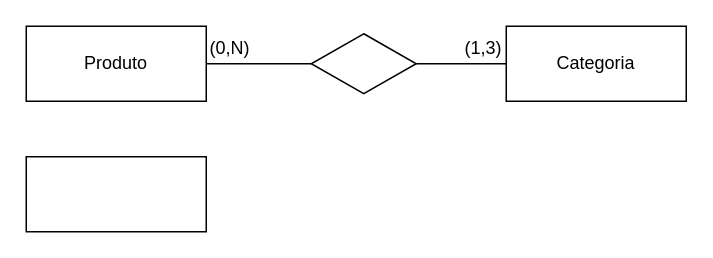
Some shapes in this 713 by 258 pixel diagram are drawn without their labels. The centre of each missing label's shape, as x and y in pixels:
Tem: (x=363, y=63)
Usuario: (x=115, y=193)
